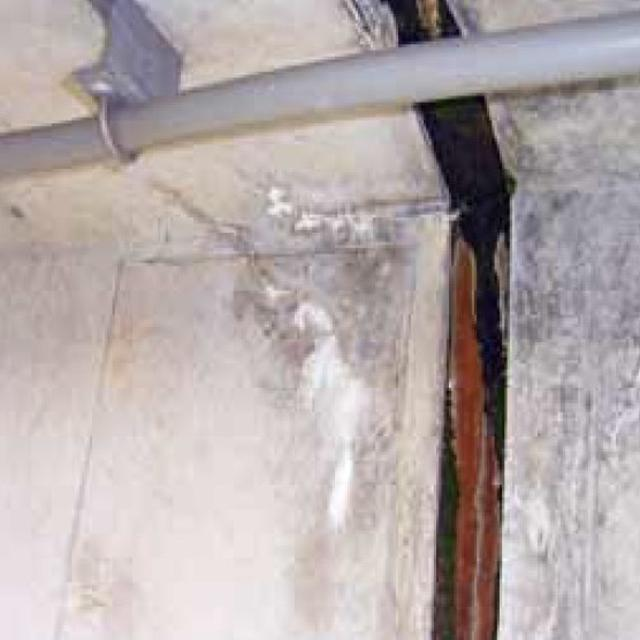freelime: (266, 168, 384, 513)
